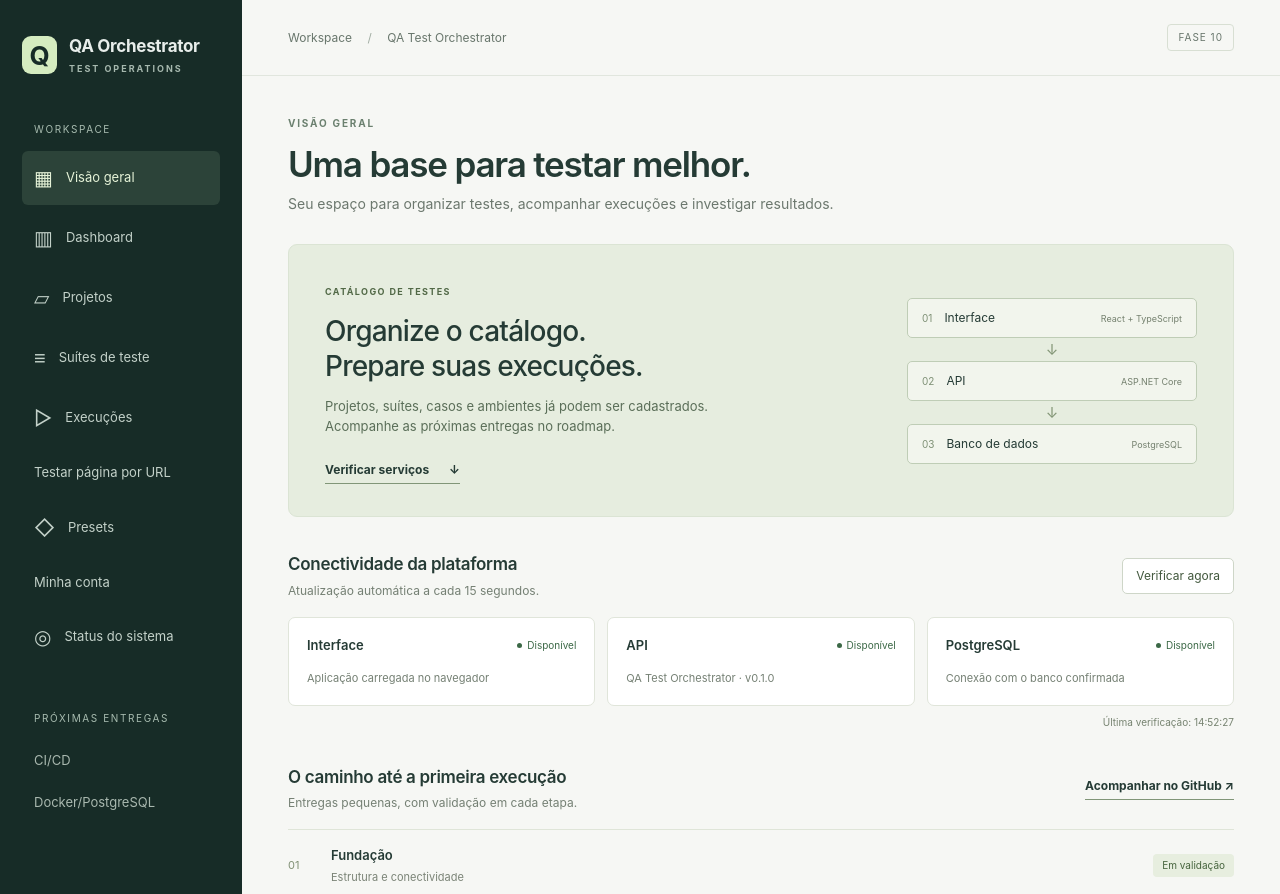
Fundação da plataforma › não mantém status antigo como disponível quando uma atualização falha
Check: the text "Conexão com o banco confirmada" is shown, box 946,671 -> 1125,685
Click the button "Verificar agora": (1178, 576) 1122,558 -> 1234,594
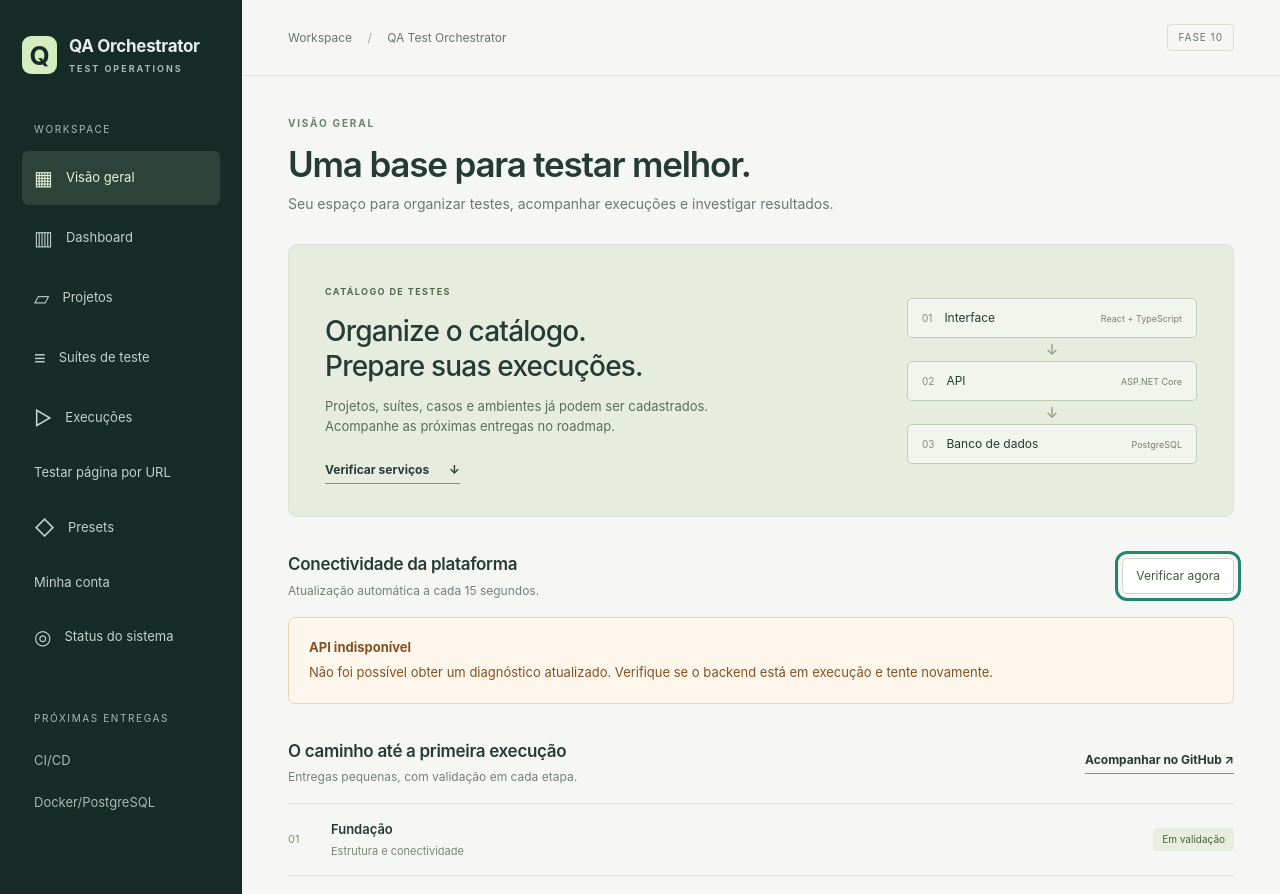
Check: the message is shown, box 288,616 -> 1234,704
Check: the text "Conexão com o banco confirmada" is gone
